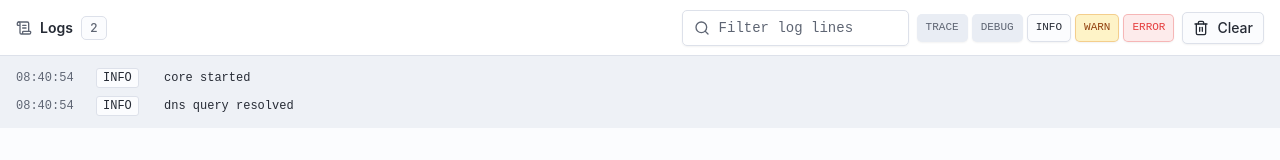
it: LogsScreen › filters lines by search text
Type "dns" into the search field labelled "Filter log lines" at (795, 28), box [682,10,909,46]
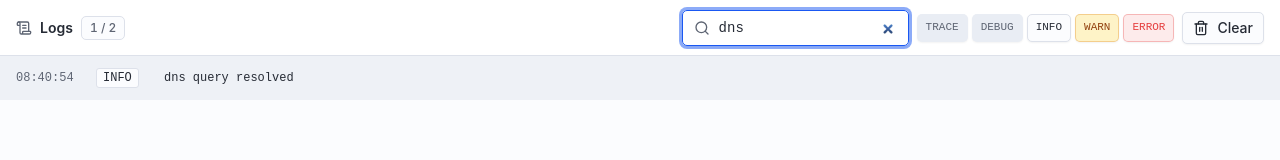
Expected: the text "dns query resolved" is shown, [164,71,294,85]
Result: the text "core started" is gone
